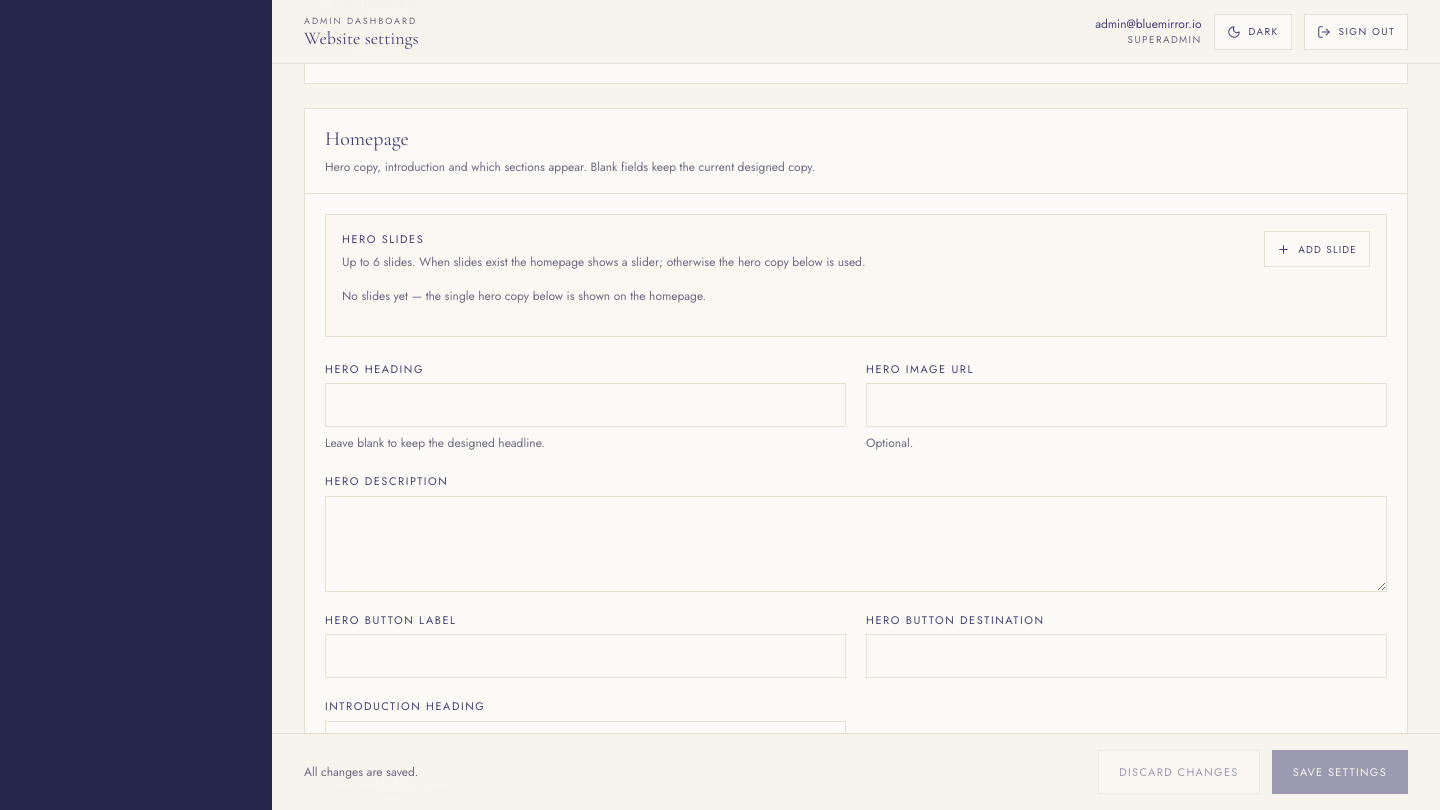
Test: admin website settings › reports a failed save without claiming success
This screenshot has width=1440, height=810.
(page scrolled)
In the field labelled "Hero heading": point(586, 405) x1=325 y1=383 x2=846 y2=427, type "A changed heading."
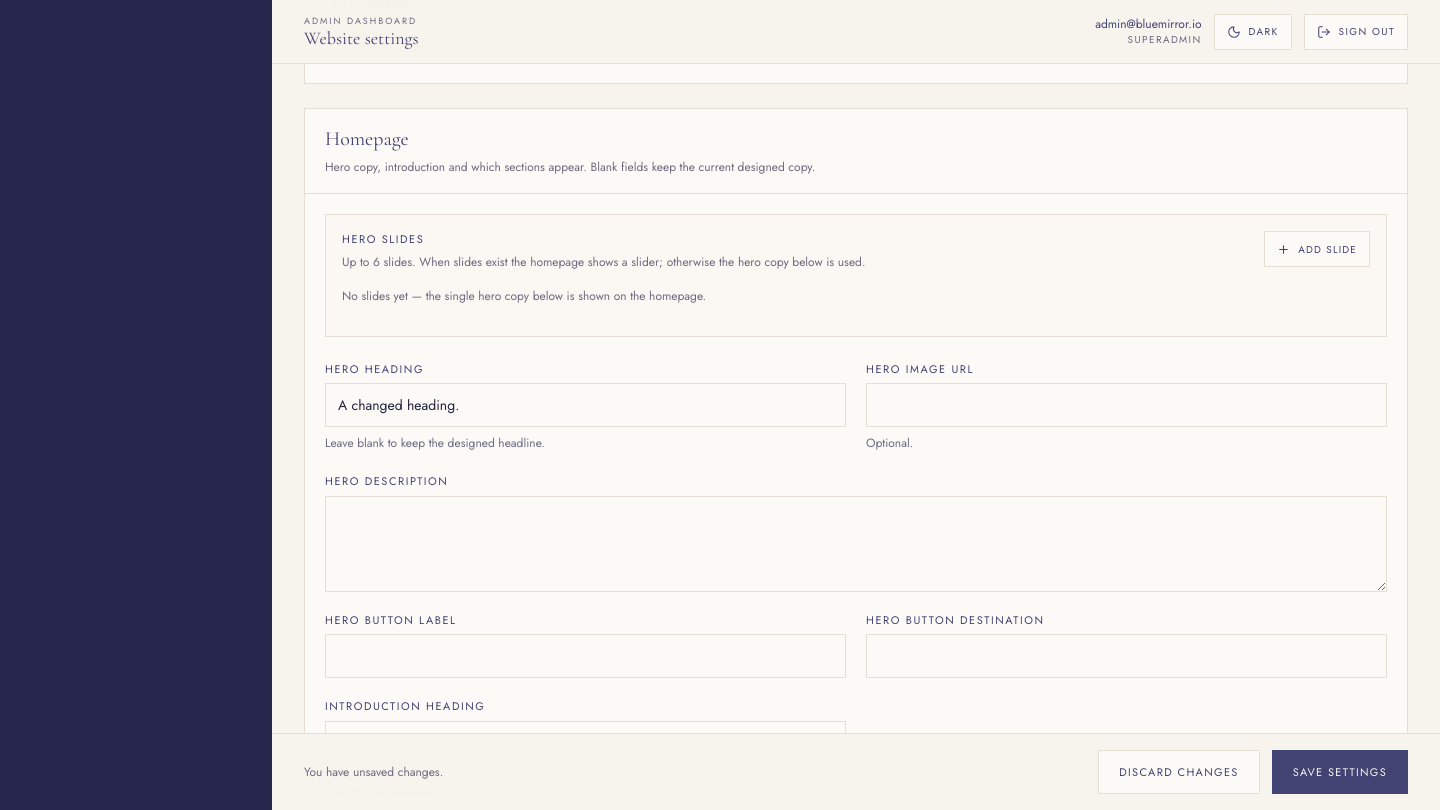
Click the button "Save settings": point(1340, 772) x1=1272 y1=750 x2=1408 y2=794
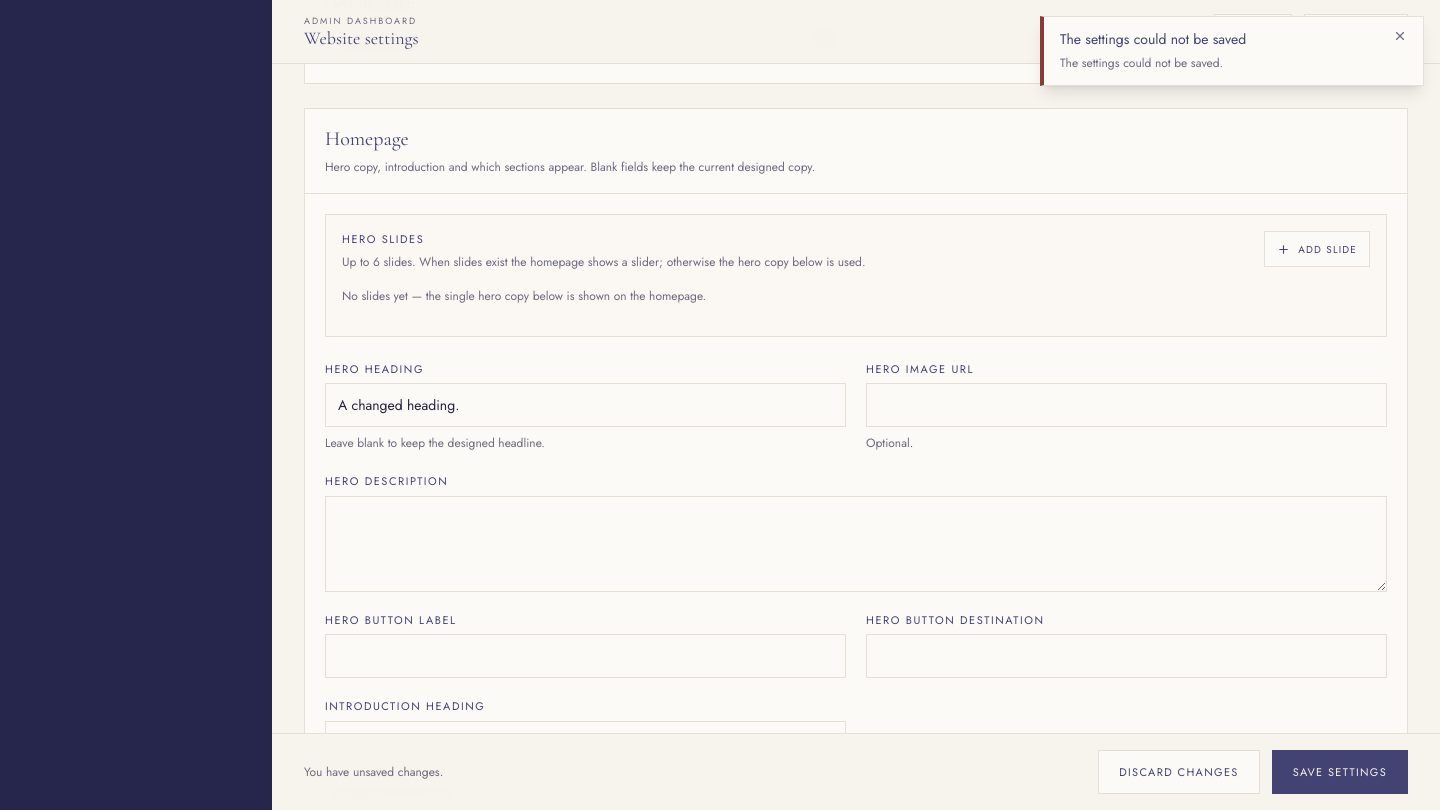
Expected: the text "The settings could not be saved" is shown, x1=1060 y1=29 x2=1246 y2=49
